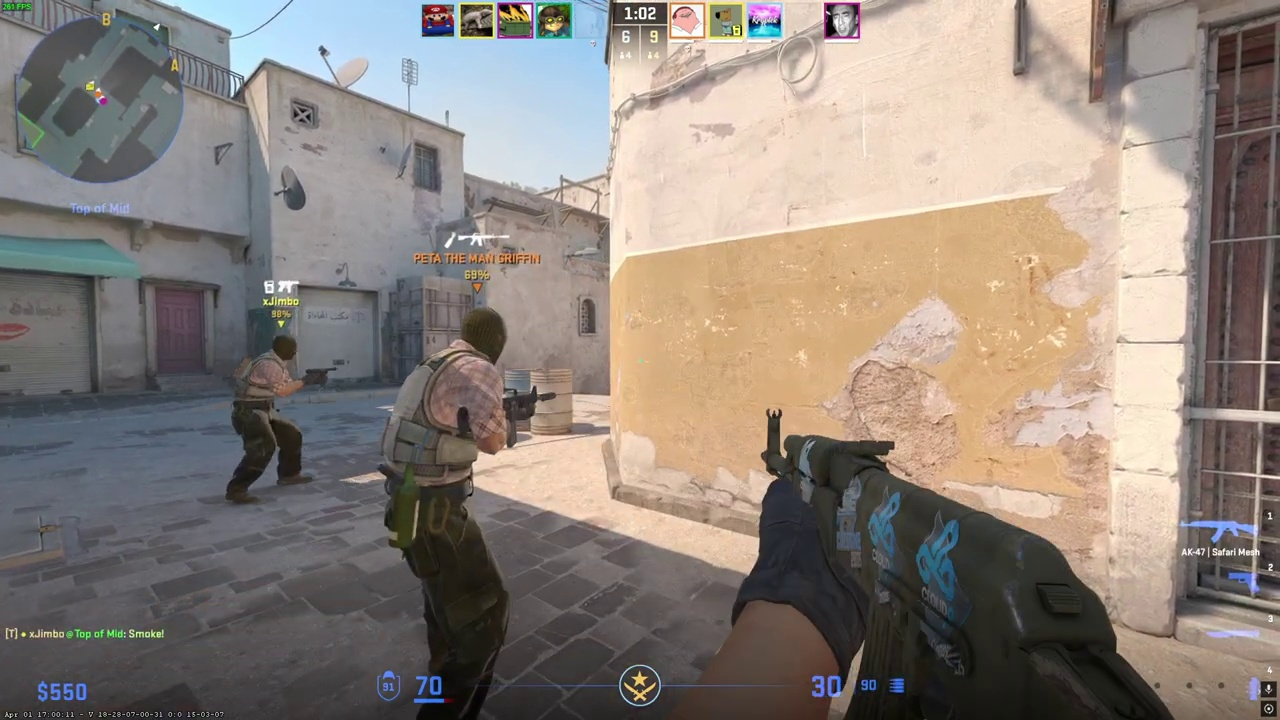Terrorist: (380, 305, 521, 720), (226, 333, 311, 506)
